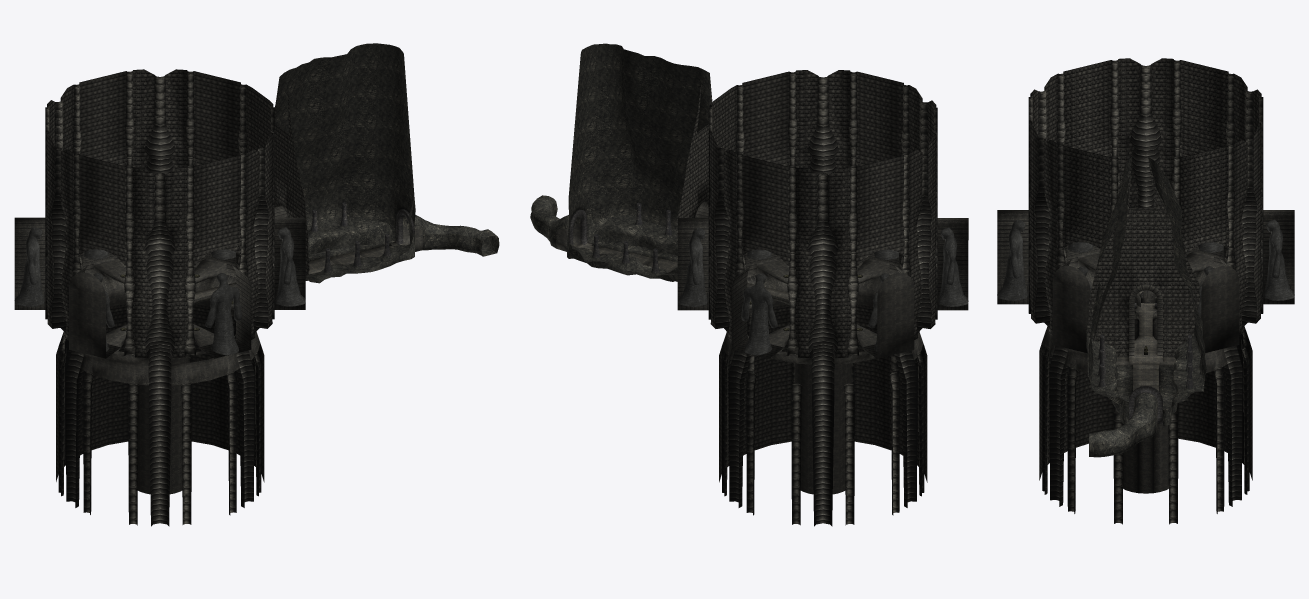
The picture shows the model from 3 angles, left to right: view 1: azimuth 30°, elevation 25°; view 2: azimuth 150°, elevation 25°; view 3: azimuth 270°, elevation 25°; orthographic projection. The views are drawn at different scales.
Parts seen in each view (by area): view 1: Chunk-8_Mesh-0, Chunk-4_Mesh-0, Chunk-8_Mesh-2, Chunk-8_Mesh-3, Chunk-8_Mesh-4, Chunk-8_Mesh-1, Chunk-3_Mesh-0, Chunk-9_Mesh-0, Chunk-2_Mesh-1, Chunk-13_Mesh-0, Chunk-12_Mesh-0, Chunk-14_Mesh-0 (+5 smaller); view 2: Chunk-8_Mesh-0, Chunk-4_Mesh-0, Chunk-8_Mesh-2, Chunk-8_Mesh-3, Chunk-8_Mesh-4, Chunk-8_Mesh-1, Chunk-3_Mesh-0, Chunk-9_Mesh-0, Chunk-2_Mesh-1, Chunk-10_Mesh-0, Chunk-11_Mesh-0, Chunk-15_Mesh-0 (+4 smaller); view 3: Chunk-8_Mesh-0, Chunk-8_Mesh-2, Chunk-8_Mesh-3, Chunk-2_Mesh-1, Chunk-8_Mesh-4, Chunk-4_Mesh-0, Chunk-8_Mesh-1, Chunk-3_Mesh-0, Chunk-9_Mesh-0, Chunk-10_Mesh-0, Chunk-13_Mesh-0, Chunk-7_Mesh-0 (+7 smaller).
Part boxes in pixels (<box>): Chunk-8_Mesh-0: <box>46,69,273,482</box>; Chunk-4_Mesh-0: <box>274,43,415,269</box>; Chunk-8_Mesh-2: <box>45,70,274,525</box>; Chunk-8_Mesh-3: <box>51,124,268,526</box>; Chunk-8_Mesh-4: <box>62,258,260,385</box>; Chunk-8_Mesh-1: <box>14,207,305,358</box>; Chunk-3_Mesh-0: <box>305,217,414,283</box>; Chunk-9_Mesh-0: <box>137,355,188,494</box>; Chunk-2_Mesh-1: <box>274,79,309,275</box>; Chunk-13_Mesh-0: <box>205,273,241,355</box>; Chunk-12_Mesh-0: <box>275,227,305,306</box>; Chunk-14_Mesh-0: <box>14,227,44,306</box>; Chunk-8_Mesh-0: <box>709,70,936,482</box>; Chunk-4_Mesh-0: <box>567,43,710,276</box>; Chunk-8_Mesh-2: <box>708,71,937,525</box>; Chunk-8_Mesh-3: <box>714,124,931,526</box>; Chunk-8_Mesh-4: <box>677,218,968,360</box>; Chunk-8_Mesh-1: <box>677,207,968,358</box>; Chunk-3_Mesh-0: <box>567,214,677,281</box>; Chunk-9_Mesh-0: <box>794,363,851,494</box>; Chunk-2_Mesh-1: <box>676,77,712,245</box>; Chunk-10_Mesh-0: <box>741,273,777,355</box>; Chunk-11_Mesh-0: <box>677,227,707,306</box>; Chunk-15_Mesh-0: <box>938,227,968,306</box>; Chunk-8_Mesh-0: <box>1029,58,1262,480</box>; Chunk-8_Mesh-2: <box>1028,59,1263,524</box>; Chunk-8_Mesh-3: <box>1034,114,1257,506</box>; Chunk-2_Mesh-1: <box>1086,158,1199,356</box>; Chunk-8_Mesh-4: <box>1043,252,1245,373</box>; Chunk-4_Mesh-0: <box>1086,157,1206,409</box>; Chunk-8_Mesh-1: <box>997,210,1294,304</box>; Chunk-3_Mesh-0: <box>1087,331,1204,425</box>; Chunk-9_Mesh-0: <box>1123,318,1168,493</box>; Chunk-10_Mesh-0: <box>1264,219,1294,300</box>; Chunk-13_Mesh-0: <box>997,219,1027,300</box>; Chunk-7_Mesh-0: <box>1093,392,1157,445</box>.
Bounding box in the file's own units: 11603 × 12300 × 6808.
Materials: 15 (15 with a texture image).
